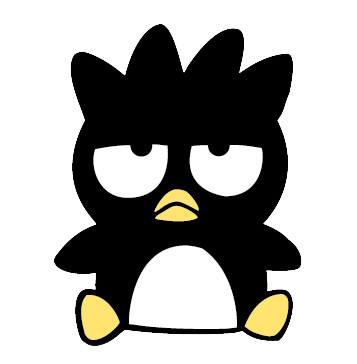batsumaru: (54, 23, 303, 344)
